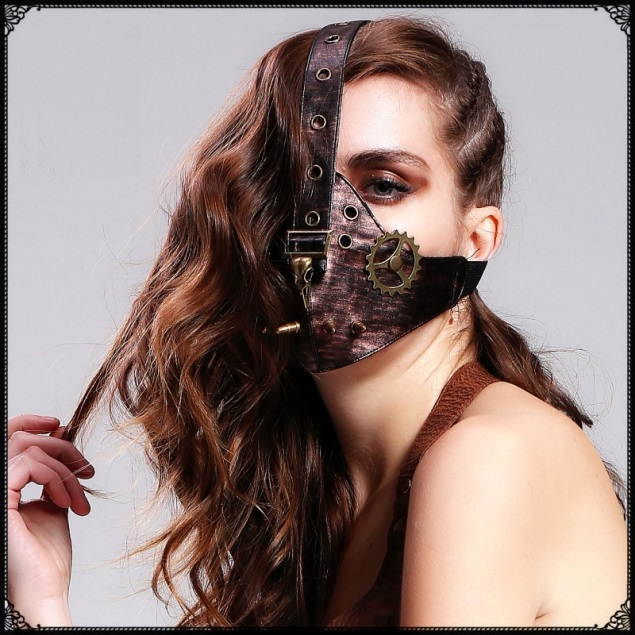face_mask: (273, 79, 450, 356)
